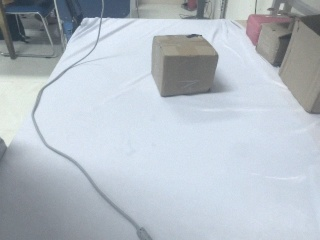box: (149, 34, 219, 98), (279, 12, 320, 116), (253, 13, 294, 67)
